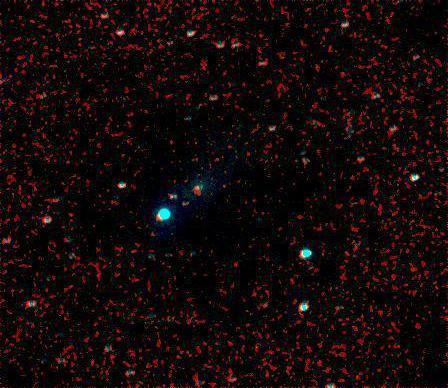star: (185, 171, 215, 201)
